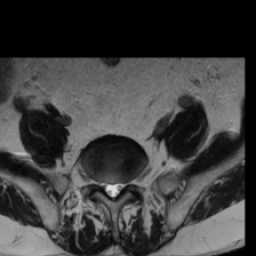CCS_severe_stenosis: (110, 176, 115, 205)
LFS_severe_stenosis: (123, 176, 130, 192)
LLS_normal: (115, 176, 122, 197)
RFS_severe_stenosis: (95, 174, 103, 194)
RLS_normal: (103, 176, 110, 198)
